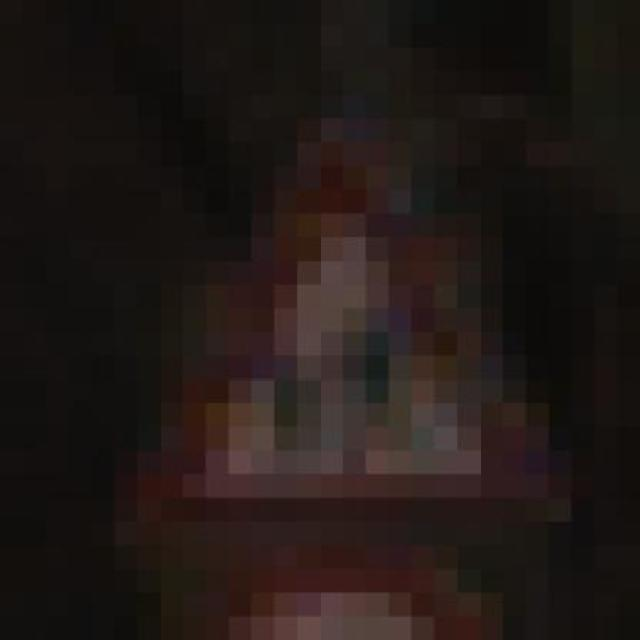Beware of children: (114, 94, 549, 546)
